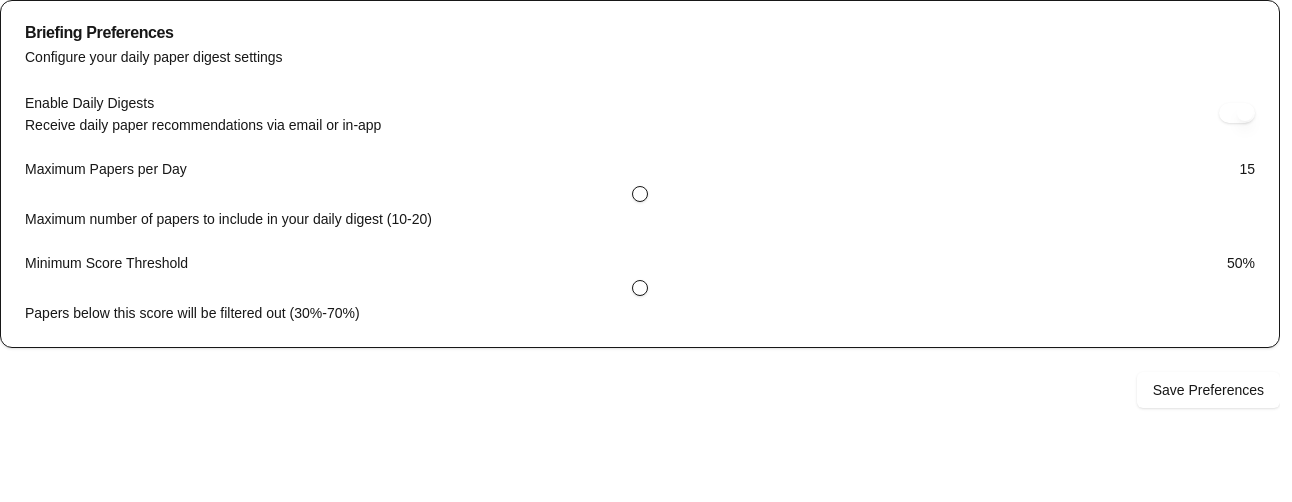
Scenario: PreferencesSettings › Error Handling › should display success message when save succeeds
This screenshot has width=1292, height=502.
Click the button "Save Preferences".
click(1208, 390)  # box [1137, 372, 1280, 408]
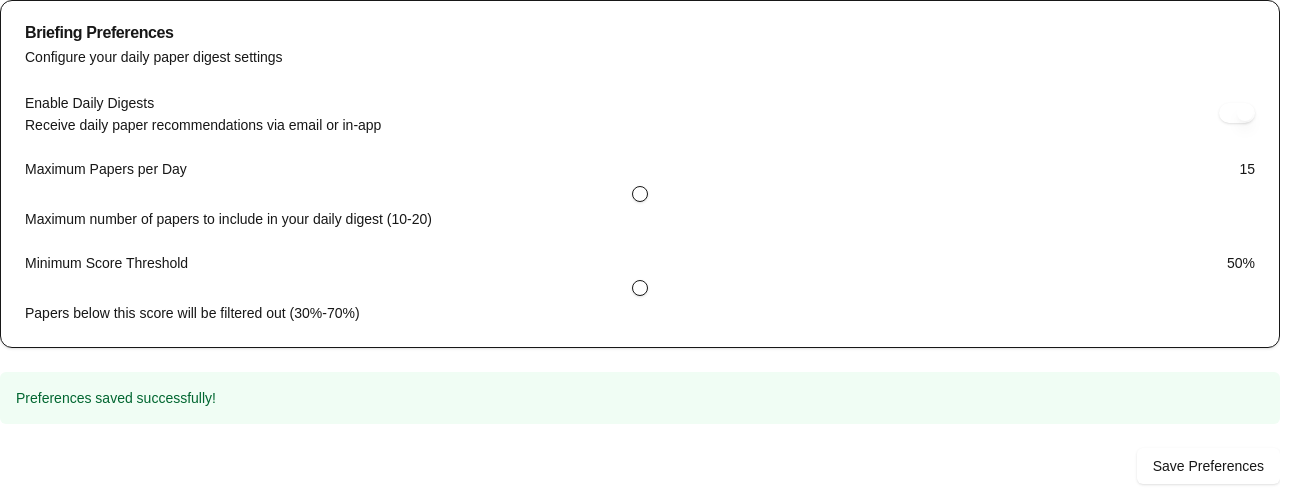
Expected: the text "Preferences saved successfully!" is shown, [0, 372, 1280, 424]
